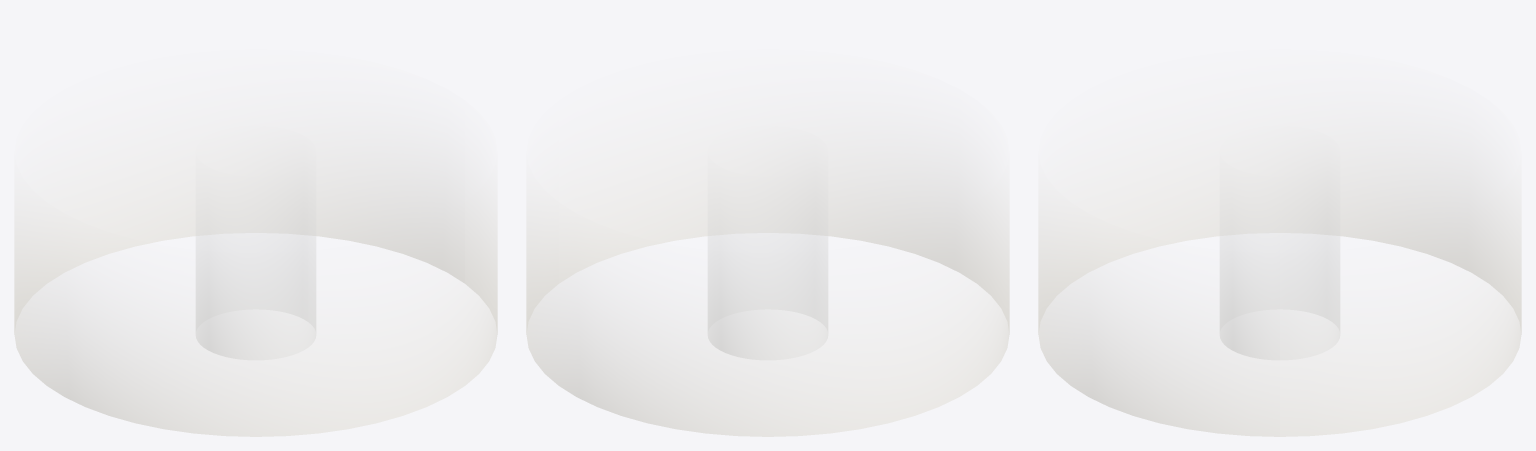
File: fx_pillar_white.glb
3 views of the same model, side by side, from view 1: azimuth 30°, elevation 25°; view 2: azimuth 150°, elevation 25°; view 3: azimuth 270°, elevation 25° (orthographic).
Parts seen in each view (by area): view 1: fx_pillar_white; view 2: fx_pillar_white; view 3: fx_pillar_white.
Part boxes in pixels (x1,y1,x2,y2): fx_pillar_white: (14,107,497,436); fx_pillar_white: (526,107,1009,436); fx_pillar_white: (1038,107,1521,436).
Bounding box in the file's own units: 2 × 1 × 2.
Materials: 2 (2 with a texture image).
